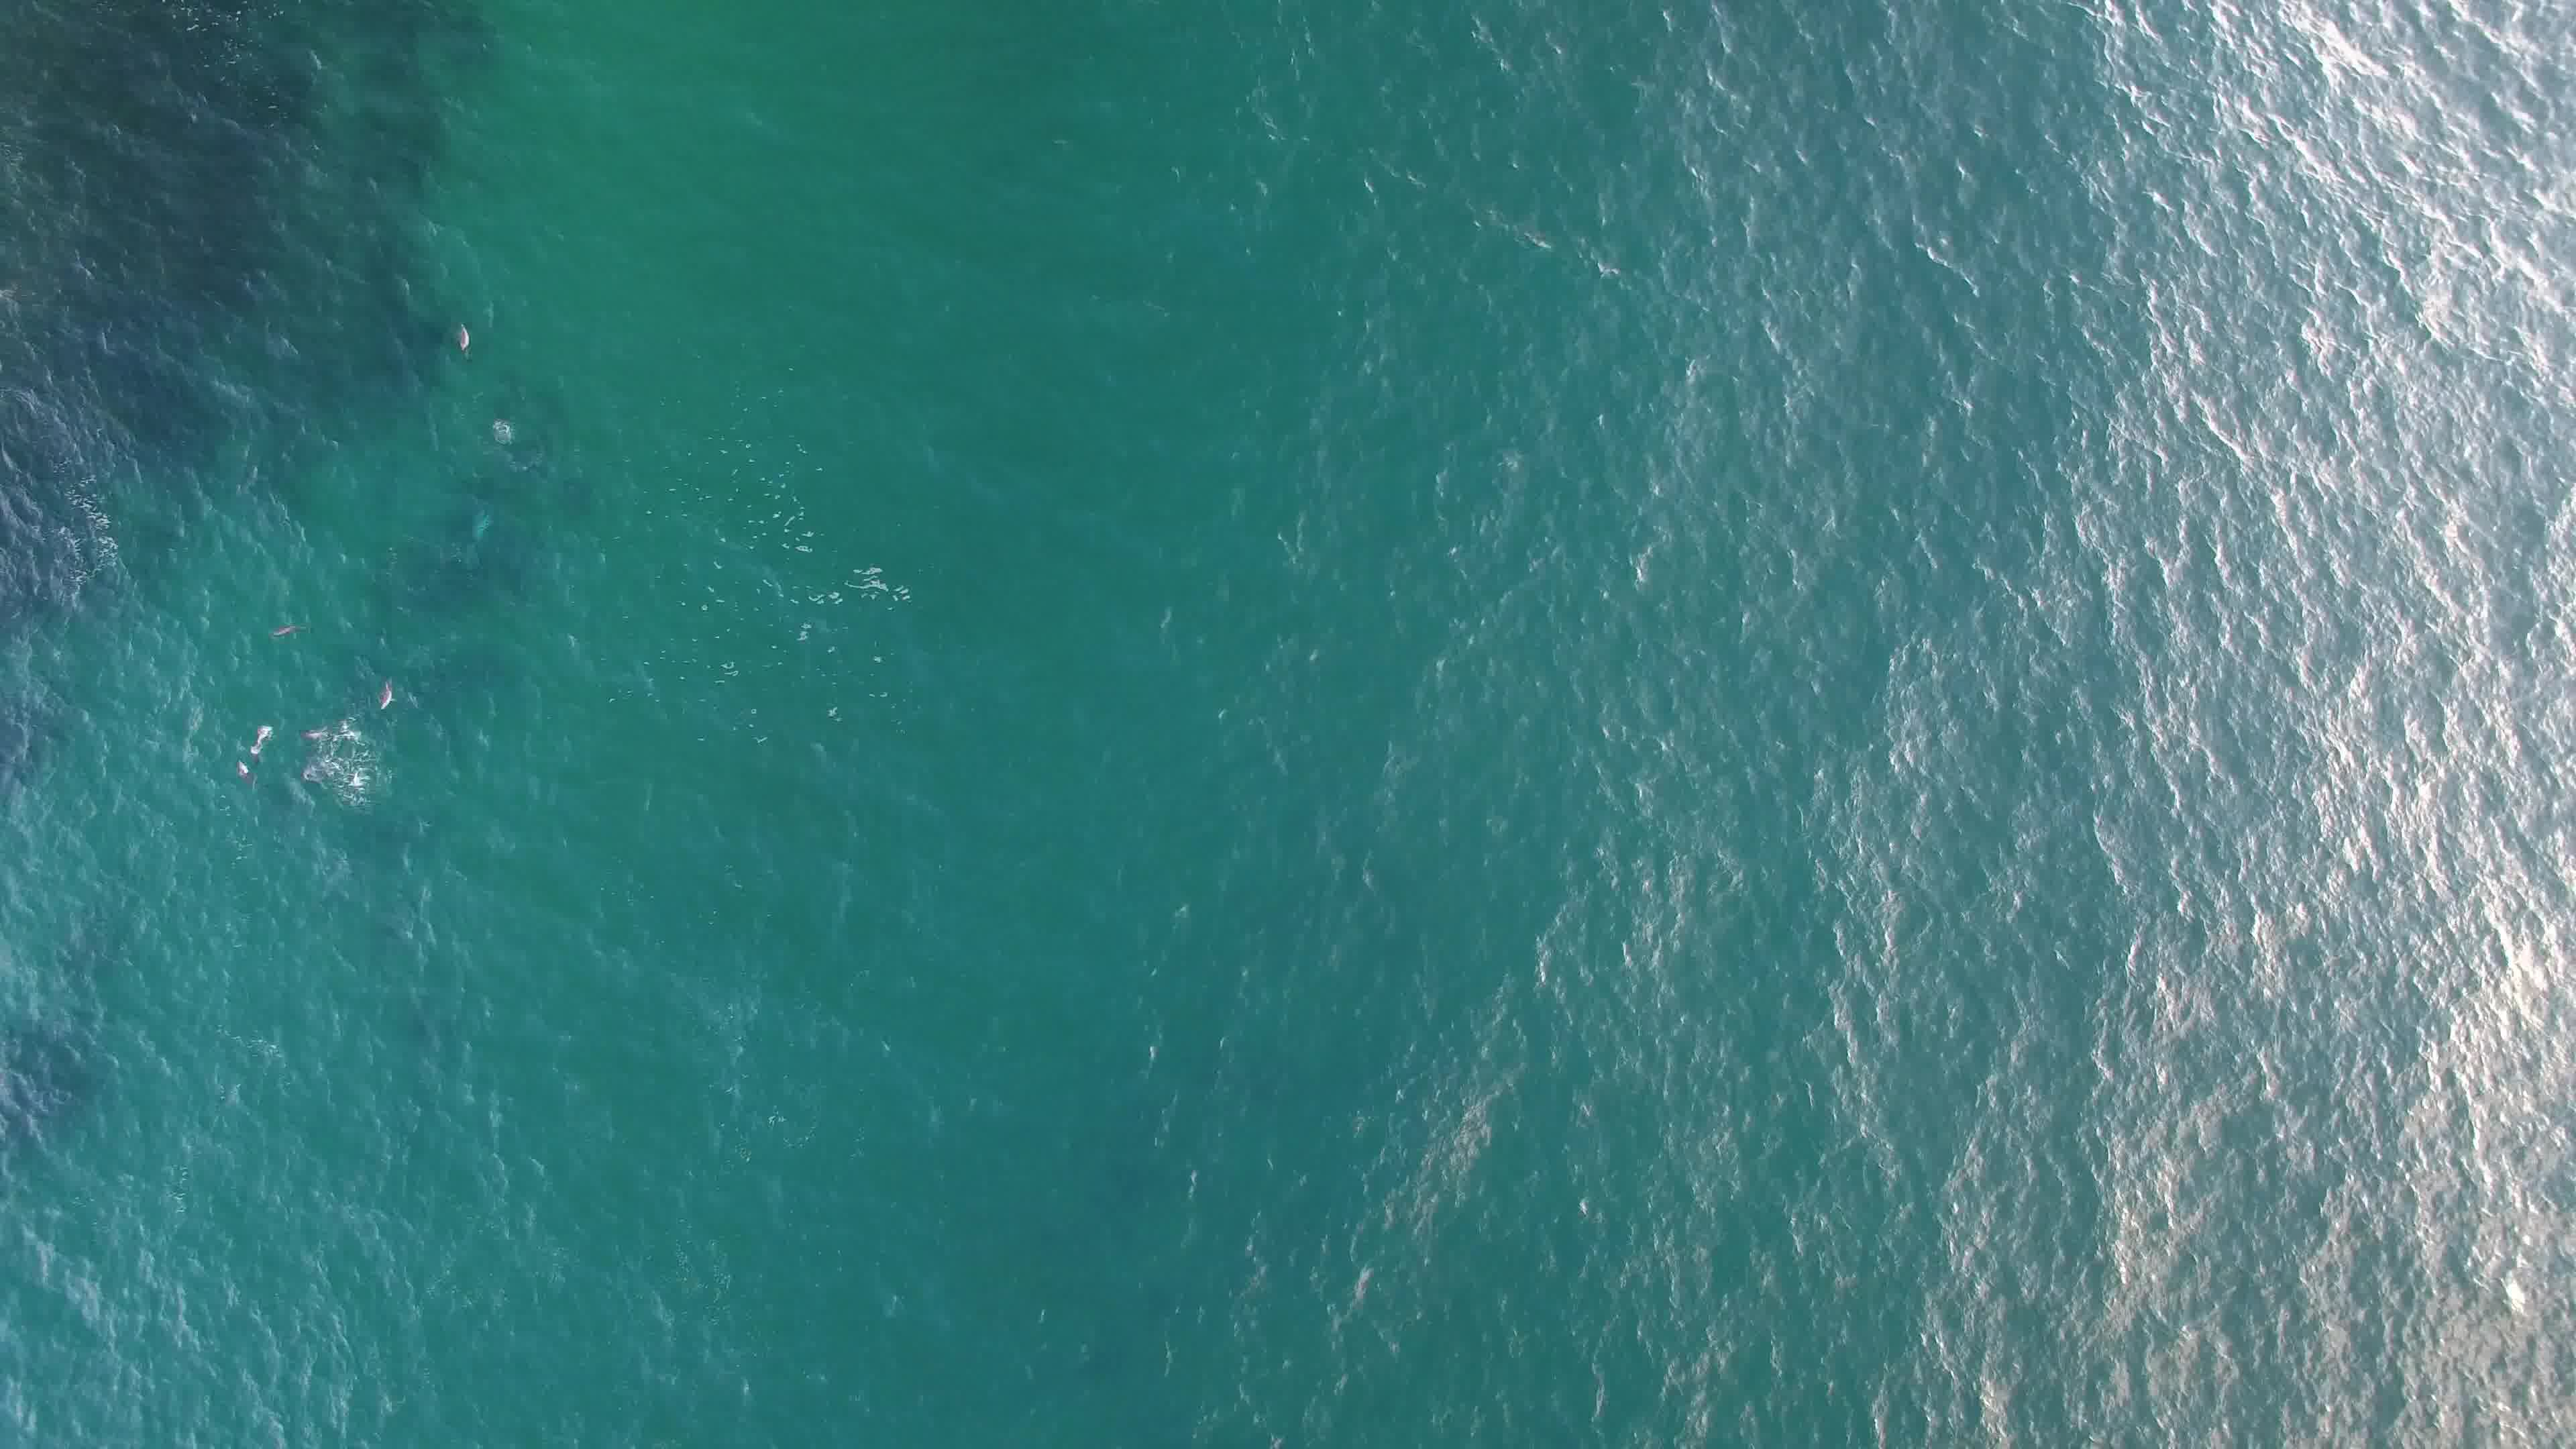dolphin: (205, 748, 260, 784), (264, 612, 317, 648), (239, 717, 283, 755), (297, 755, 343, 789), (364, 674, 403, 709), (285, 720, 336, 743)
